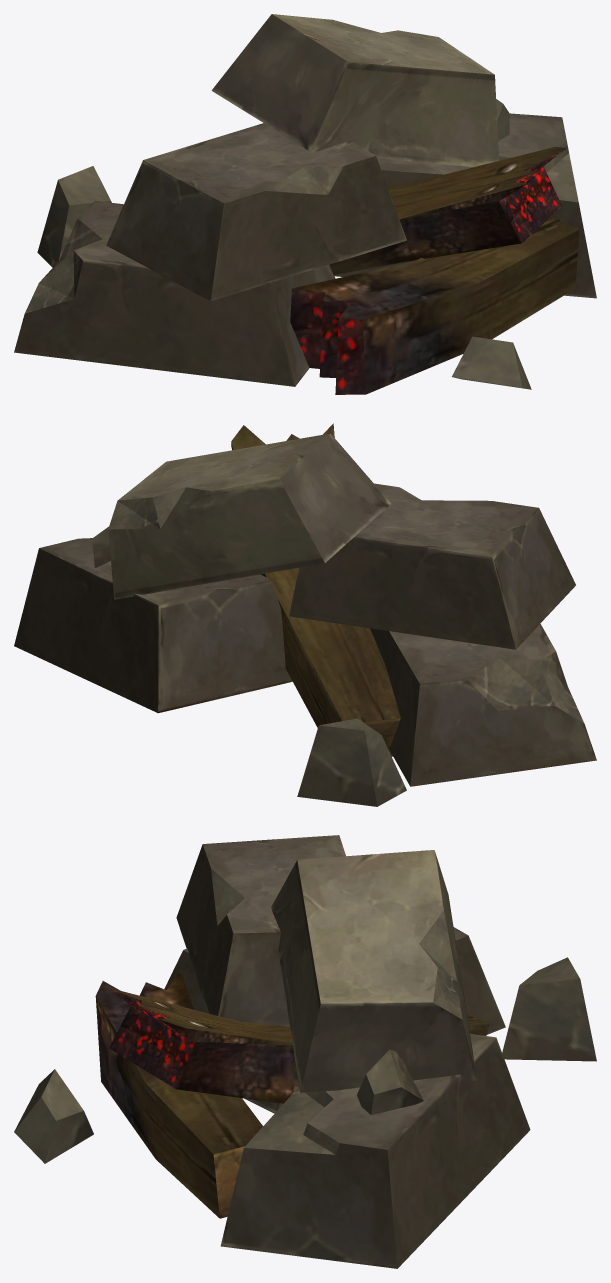
The model's file is BD_BrickWreckage05.FBX.
3 renders of one model, top to bottom at view 1: azimuth 30°, elevation 25°; view 2: azimuth 150°, elevation 25°; view 3: azimuth 270°, elevation 25°, orthographic. The views are drawn at different scales.
Visible parts, largest first — view 1: BD_BrickWreckage05; view 2: BD_BrickWreckage05; view 3: BD_BrickWreckage05.
Boxes of the visible parts, x1,y1,x2,y2 form: BD_BrickWreckage05: [14, 14, 596, 394]; BD_BrickWreckage05: [14, 423, 596, 806]; BD_BrickWreckage05: [14, 835, 596, 1268].
Bounding box in the file's own units: 693 × 302 × 568.
